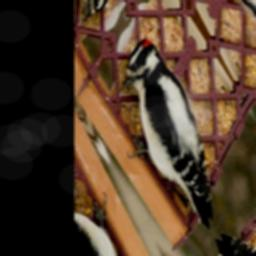Woodpecker: (99, 28, 237, 256)
